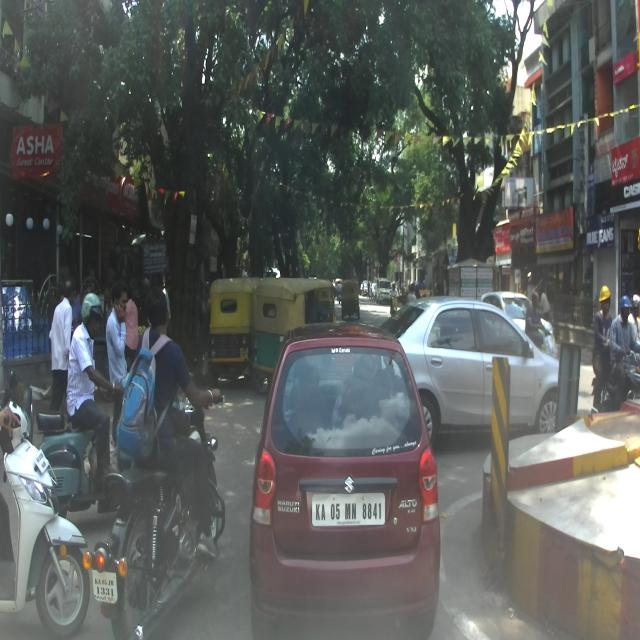car ahead at: (253, 325, 440, 636)
motorcycle ahead at: (87, 287, 227, 640)
